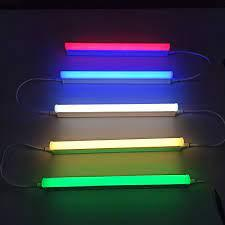Lamp: (39, 171, 196, 193), (45, 135, 196, 154), (60, 37, 180, 59), (54, 65, 178, 86), (51, 102, 188, 118)
